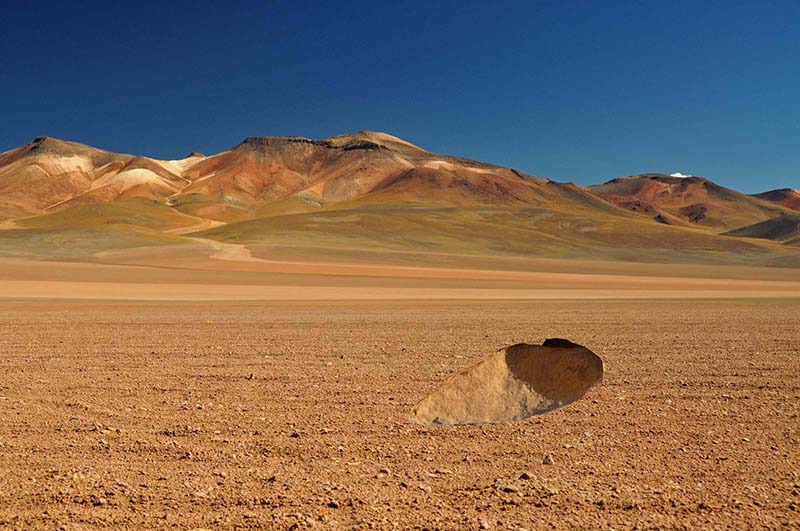Rocks: (403, 331, 607, 430)
